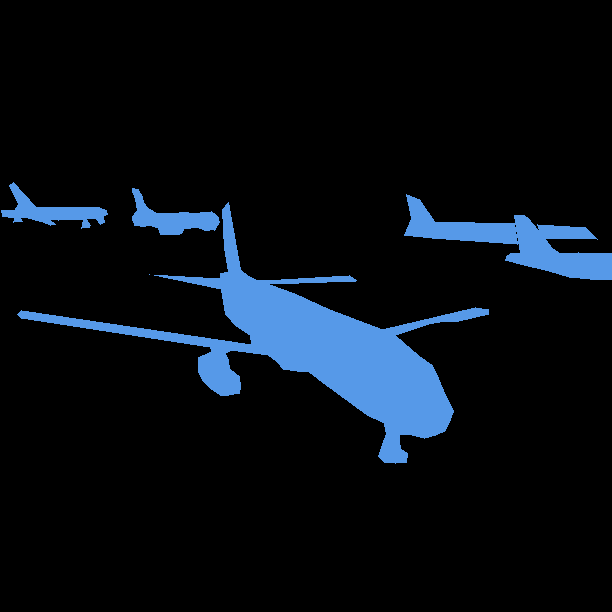Airplane: (17, 202, 489, 463), (404, 194, 597, 245), (505, 215, 612, 281), (1, 182, 107, 228), (132, 188, 219, 235)
